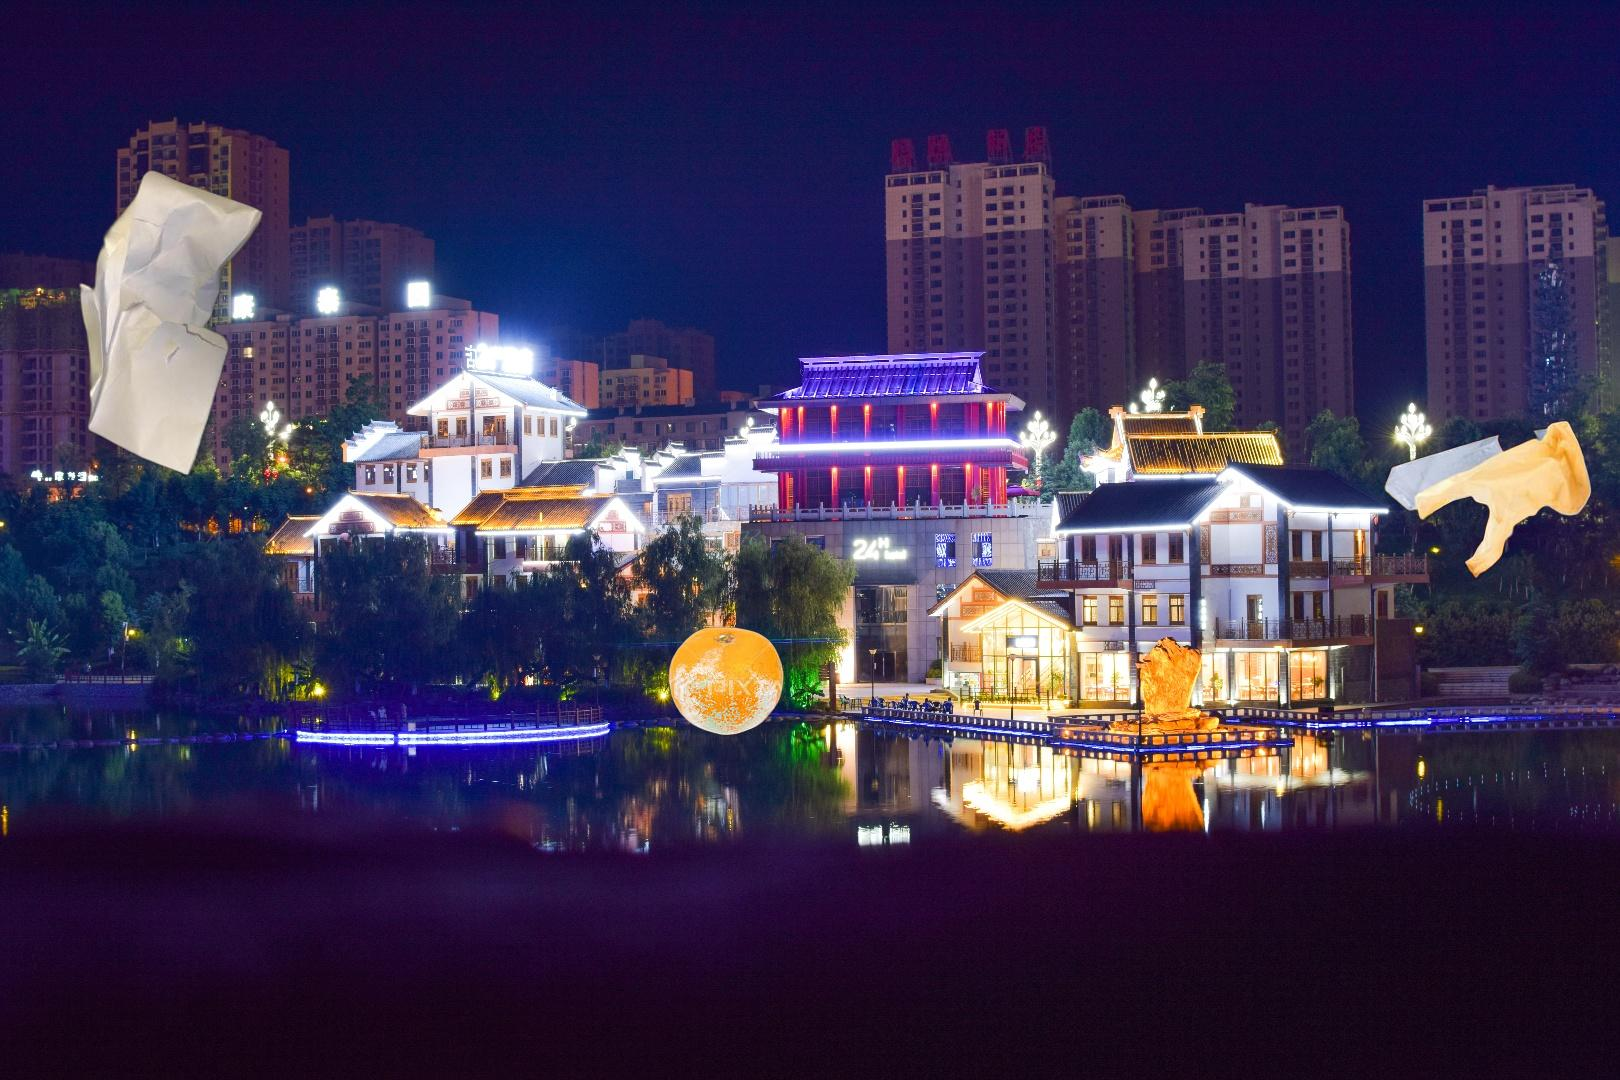biological: (665, 624, 785, 738)
paper: (74, 168, 268, 479)
penholder: (36, 828, 704, 1080)
plastic-bag: (1381, 418, 1593, 581)
